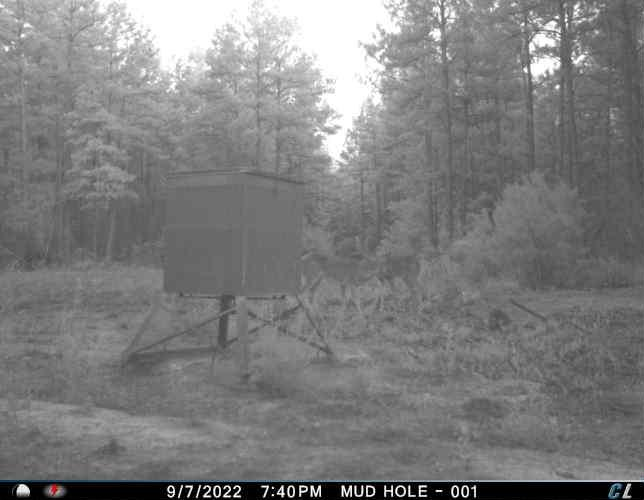Deer: (293, 242, 385, 334), (364, 240, 423, 317)
